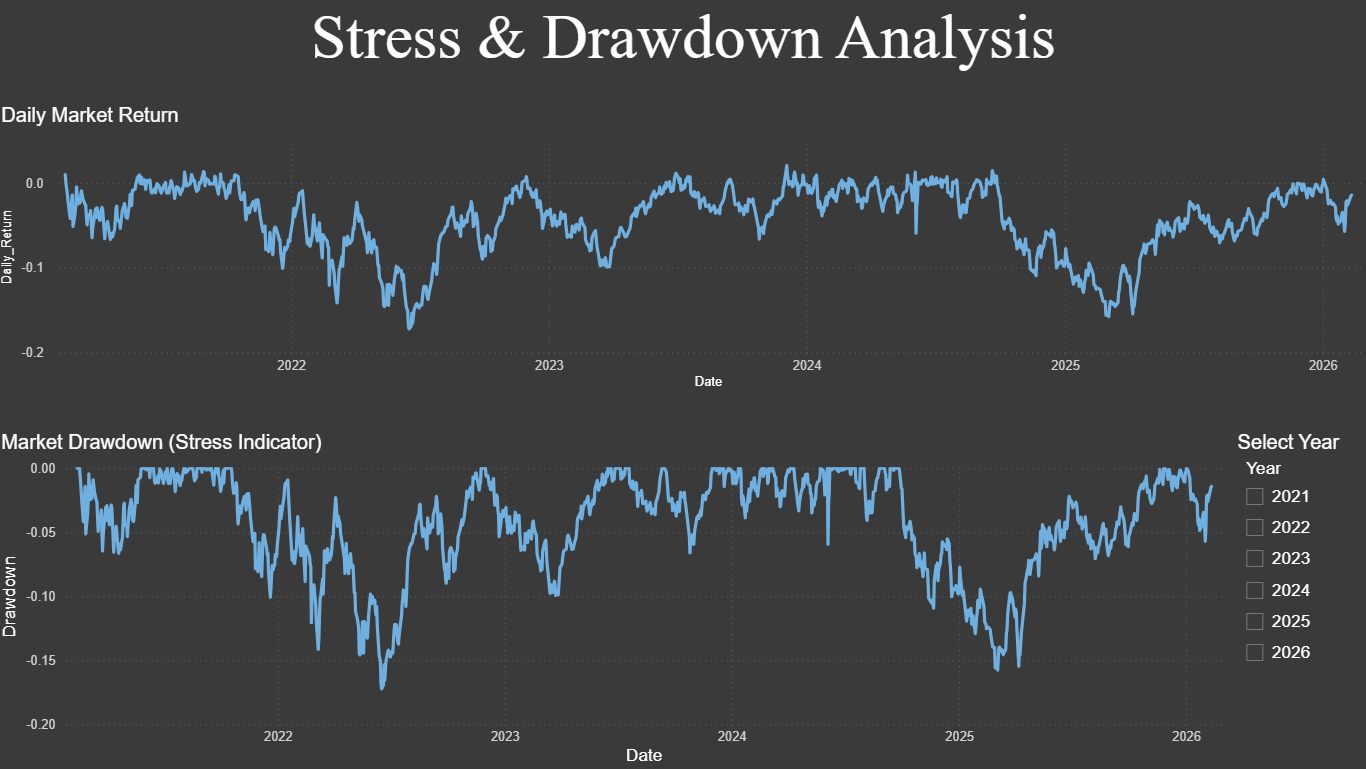

The dashboard page shown, as its layout file describes it:
{"tool":"powerbi","page":{"name":"Stress & Drawdown Analysis","canvas":[1280,720],"ordinal":1},"visuals":[{"type":"lineChart","title":"Market Drawdown (Stress Indicator)","fields":{"Category":["Dim_Date.Date"],"Y":["Dim_Date.Drawdown"]},"box":[0,404.8,1149.9,315.6],"z":0},{"type":"lineChart","title":"Daily Market Return","fields":{"Category":["Dim_Date.Date"],"Y":["Dim_Date.Daily_Return"]},"box":[0,100.2,1280.3,270.3],"z":1},{"type":"slicer","title":"Select Year","fields":{"Values":["Dim_Date.Year"]},"box":[1149.9,389.7,130.4,321.1],"z":2},{"type":"textbox","box":[282.7,0,713.6,100.2],"z":3}]}

Visuals, with their boxes in screenshot pixels (x1, y1, x2, y2), scaled from the page's 1280x720 canvas onto the 1366x769 screenshot:
"Market Drawdown (Stress Indicator)" lineChart: x1=0 y1=432 x2=1227 y2=768
"Daily Market Return" lineChart: x1=0 y1=107 x2=1365 y2=396
"Select Year" slicer: x1=1227 y1=416 x2=1365 y2=759
textbox: x1=302 y1=0 x2=1063 y2=107
